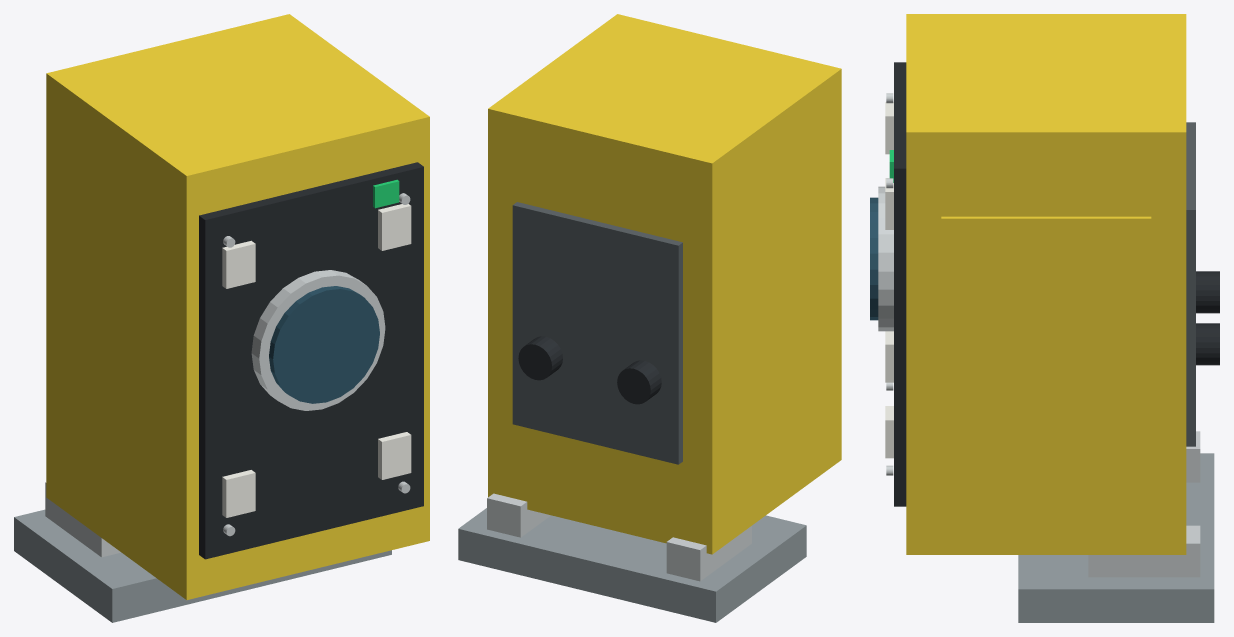
3 renders of one model, left to right at view 1: azimuth 30°, elevation 25°; view 2: azimuth 150°, elevation 25°; view 3: azimuth 270°, elevation 25°, orthographic. The views are drawn at different scales.
Parts seen in each view (by area): view 1: housing, front bezel, optical lens, Mount bracket, lens surround, illumination emitter, illumination emitter.002, illumination emitter.003, illumination emitter.001, mounting flange, status indicator; view 2: housing, Rear connector plate, Mount bracket, mounting flange, mounting flange.001, Electrical connector, Electrical connector.001; view 3: housing, yellow side band, Mount bracket, front bezel, Rear connector plate, mounting flange.001, lens surround, optical lens, Electrical connector, Electrical connector.001, mounting flange.
Part boxes in pixels (box(x1,y1,x2,y2)): housing: box(46, 14, 429, 599); front bezel: box(199, 162, 423, 559); optical lens: box(269, 286, 379, 403); Mount bracket: box(14, 509, 391, 622); lens surround: box(251, 270, 385, 410); illumination emitter: box(222, 470, 255, 517); illumination emitter.002: box(378, 432, 411, 479); illumination emitter.003: box(378, 204, 411, 250); illumination emitter.001: box(222, 240, 255, 288); mounting flange: box(45, 482, 120, 557); status indicator: box(373, 179, 399, 208); housing: box(488, 14, 841, 554); Rear connector plate: box(512, 202, 682, 464); Mount bracket: box(458, 508, 806, 622); mounting flange: box(666, 526, 751, 581); mounting flange.001: box(487, 493, 550, 537); Electrical connector: box(617, 360, 661, 404); Electrical connector.001: box(518, 336, 562, 380); housing: box(906, 14, 1186, 554); yellow side band: box(941, 216, 1151, 472); Mount bracket: box(1018, 453, 1214, 622); front bezel: box(894, 62, 906, 506); Rear connector plate: box(1186, 122, 1195, 446); mounting flange.001: box(1088, 525, 1200, 577); lens surround: box(878, 186, 893, 331); optical lens: box(870, 197, 878, 320); Electrical connector: box(1196, 271, 1219, 313); Electrical connector.001: box(1196, 323, 1219, 365); mounting flange: box(1186, 431, 1200, 482).
Bounding box in the file's own units: 0.0518 × 0.0855 × 0.0563.
